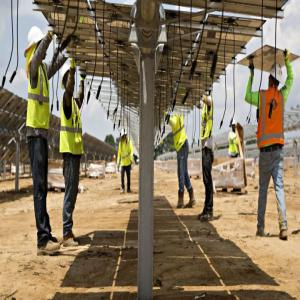white: (27, 25, 47, 62), (268, 62, 284, 90), (61, 65, 76, 91), (121, 128, 128, 143), (232, 119, 238, 131)
